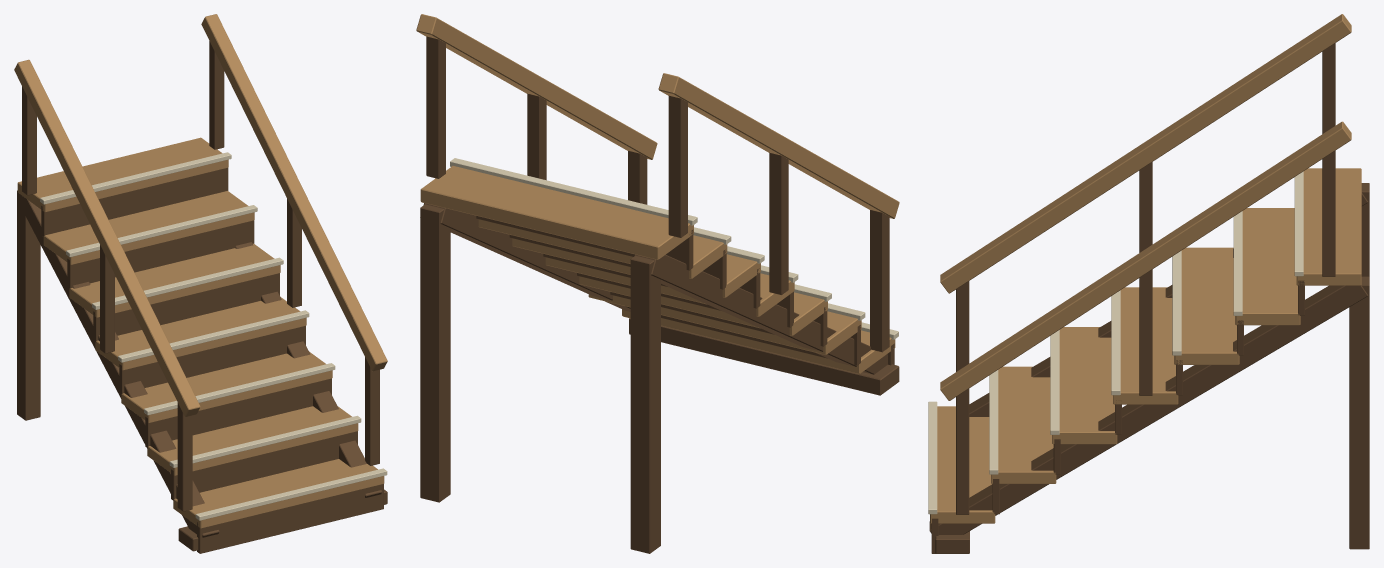
The model's file is S013_straight_stair_rebuilt.glb.
3 views of the same model, side by side, from view 1: azimuth 30°, elevation 25°; view 2: azimuth 150°, elevation 25°; view 3: azimuth 270°, elevation 25° (orthographic). The views are drawn at different scales.
Visible parts, largest first — view 1: Scenic_framing_warm_bare_timber, Dark_stained_structural_timber, Warm_matte_scenic_paint; view 2: Dark_stained_structural_timber, Scenic_framing_warm_bare_timber, Warm_matte_scenic_paint; view 3: Scenic_framing_warm_bare_timber, Dark_stained_structural_timber, Warm_matte_scenic_paint.
Boxes of the visible parts, bbox=[...] form: Scenic_framing_warm_bare_timber: bbox=[14, 14, 387, 528]; Dark_stained_structural_timber: bbox=[17, 41, 387, 553]; Warm_matte_scenic_paint: bbox=[40, 152, 387, 520]; Dark_stained_structural_timber: bbox=[420, 36, 899, 553]; Scenic_framing_warm_bare_timber: bbox=[416, 14, 899, 374]; Warm_matte_scenic_paint: bbox=[450, 158, 898, 339]; Scenic_framing_warm_bare_timber: bbox=[930, 14, 1361, 523]; Dark_stained_structural_timber: bbox=[929, 43, 1369, 553]; Warm_matte_scenic_paint: bbox=[928, 171, 1303, 514].
Bounding box in the file's own units: 1.3 × 2.28 × 2.12.
